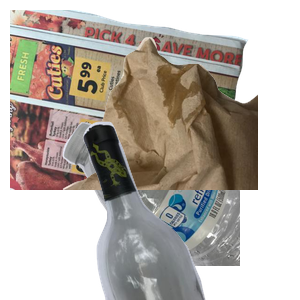glass: (81, 120, 300, 300)
paper: (10, 10, 250, 190)
plastic: (60, 120, 300, 300)
trash: (60, 35, 300, 215)
